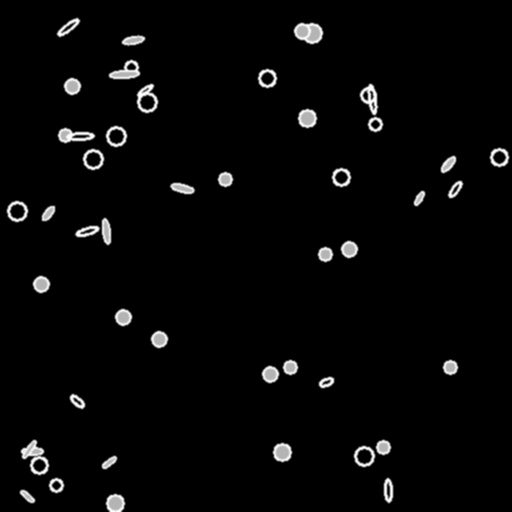pseudomonas: (57, 17, 79, 37), (439, 155, 457, 173), (447, 179, 463, 199), (21, 439, 37, 459), (367, 84, 377, 114), (40, 204, 56, 222), (76, 225, 98, 237), (101, 218, 111, 244), (69, 393, 85, 409), (101, 455, 117, 469), (19, 489, 35, 503), (110, 70, 138, 78), (137, 83, 153, 97), (171, 183, 193, 193), (67, 132, 93, 140), (123, 35, 143, 45), (413, 190, 425, 206), (318, 376, 334, 388), (384, 479, 392, 501), (21, 447, 43, 454)
synechocystis: (107, 127, 125, 145), (84, 150, 102, 168), (303, 24, 321, 42), (8, 202, 26, 220), (355, 447, 373, 465), (138, 93, 156, 111), (107, 495, 123, 511), (491, 149, 507, 165), (274, 444, 290, 460), (259, 70, 275, 86), (333, 169, 349, 185), (31, 457, 47, 473), (299, 110, 315, 126), (263, 367, 277, 381), (342, 242, 356, 256), (295, 24, 309, 38), (152, 332, 166, 346), (65, 79, 79, 93), (34, 277, 48, 291), (361, 88, 375, 102), (116, 310, 130, 324), (444, 361, 456, 373), (125, 61, 137, 73), (369, 118, 381, 130), (219, 173, 231, 185), (319, 248, 331, 260), (284, 361, 296, 373), (59, 129, 71, 141), (377, 441, 389, 453), (50, 479, 62, 491)
